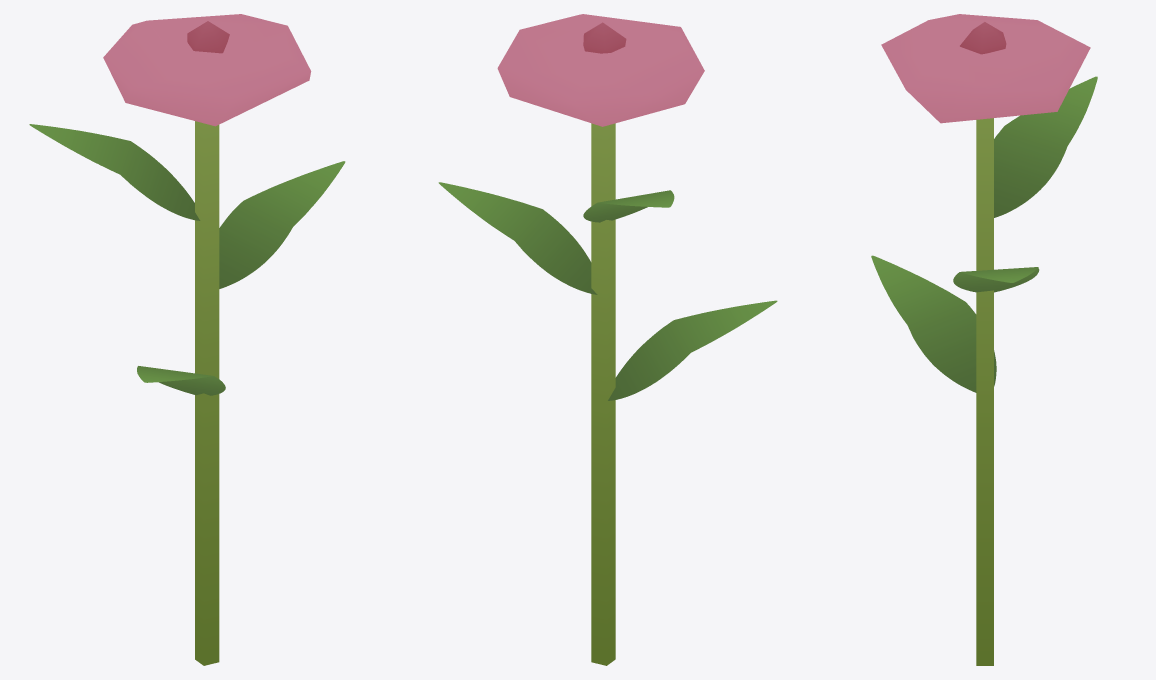
File: Flower_06.fbx
3 renders of one model, left to right at view 1: azimuth 30°, elevation 25°; view 2: azimuth 150°, elevation 25°; view 3: azimuth 270°, elevation 25°, orthographic.
Visible parts, largest first — view 1: Flower_06_LOD0; view 2: Flower_06_LOD0; view 3: Flower_06_LOD0.
Part boxes in pixels (x1,y1,x2,y2): Flower_06_LOD0: (29, 14, 345, 665); Flower_06_LOD0: (438, 14, 777, 665); Flower_06_LOD0: (871, 14, 1097, 665).
Size of what is drawn, in the model's own units: 0.1571 by 0.2978 by 0.1338.
